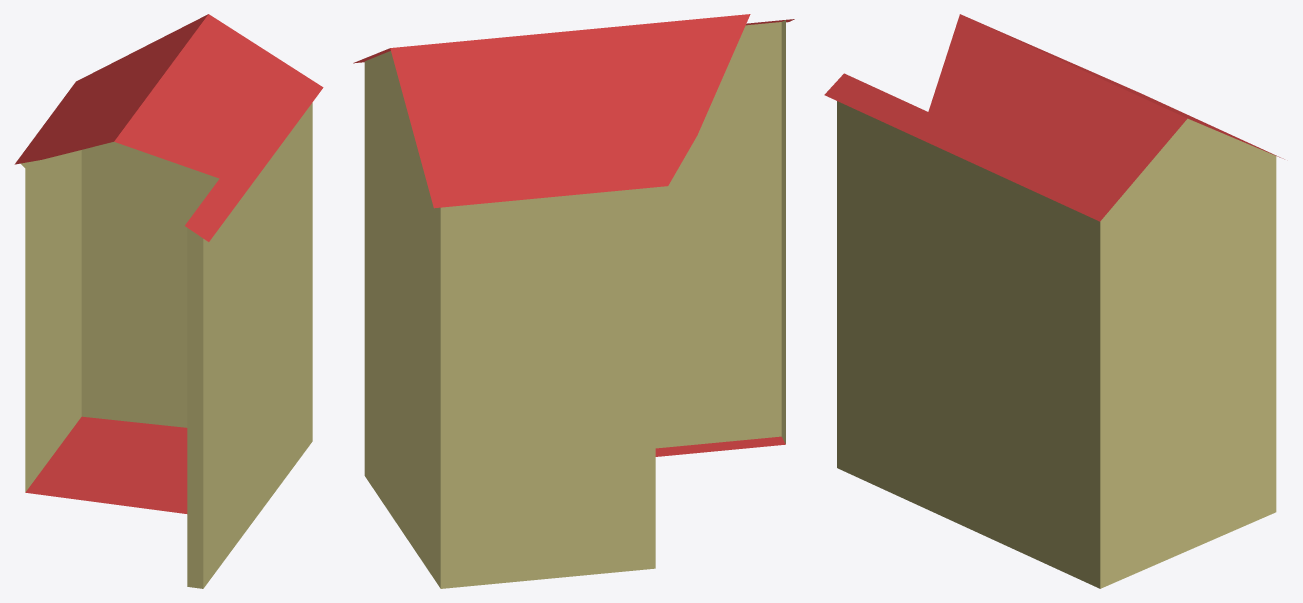
3 views of the same model, side by side, from view 1: azimuth 30°, elevation 25°; view 2: azimuth 150°, elevation 25°; view 3: azimuth 270°, elevation 25° (orthographic). The views are drawn at different scales.
Size of the model in its own units: 9.86 by 12.89 by 13.4.
